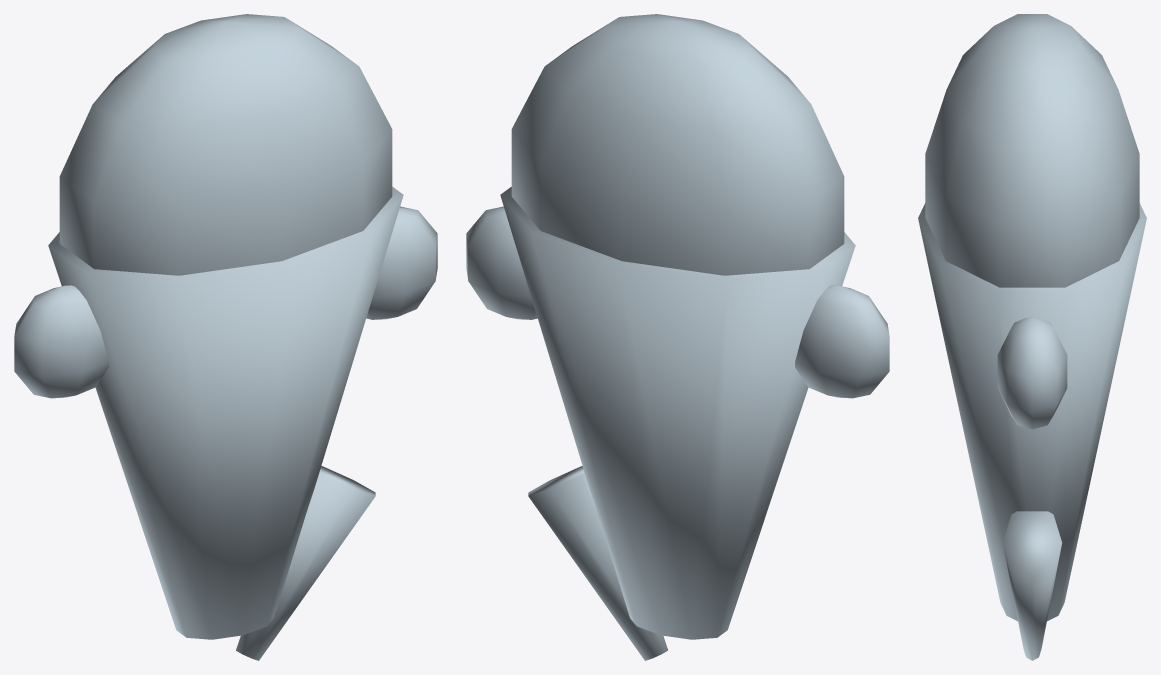
Rendered from prop-soul.glb.
3 views of the same model, side by side, from view 1: azimuth 30°, elevation 25°; view 2: azimuth 150°, elevation 25°; view 3: azimuth 270°, elevation 25° (orthographic). The views are drawn at different scales.
Visible parts, largest first — view 1: soul; view 2: soul; view 3: soul.
Part boxes in pixels (x1,y1,x2,y2): soul: [14, 14, 437, 660]; soul: [466, 14, 889, 660]; soul: [918, 14, 1146, 660].
Bounding box in the file's own units: 0.1264 × 0.1843 × 0.062.
